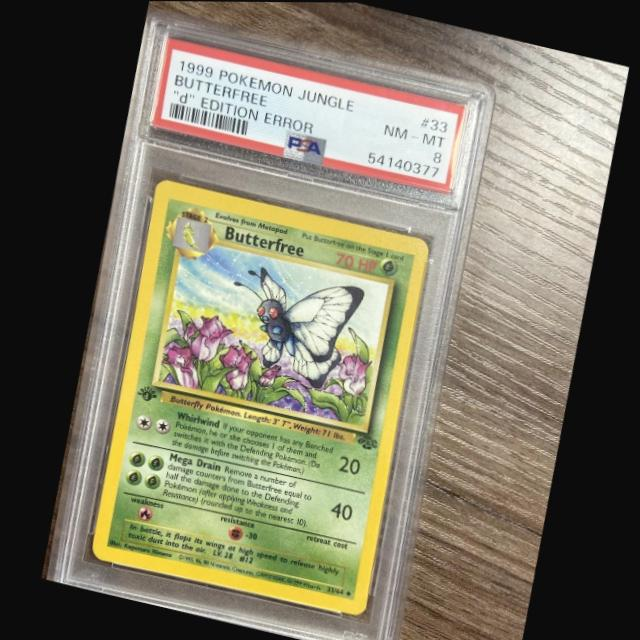card: (83, 177, 428, 616)
psa_label: (147, 35, 463, 194)
psa_slab: (37, 9, 495, 640)
